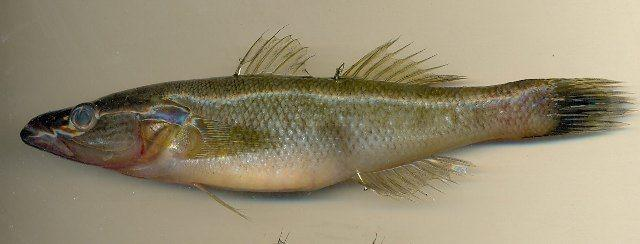Goby: (18, 24, 638, 219)
